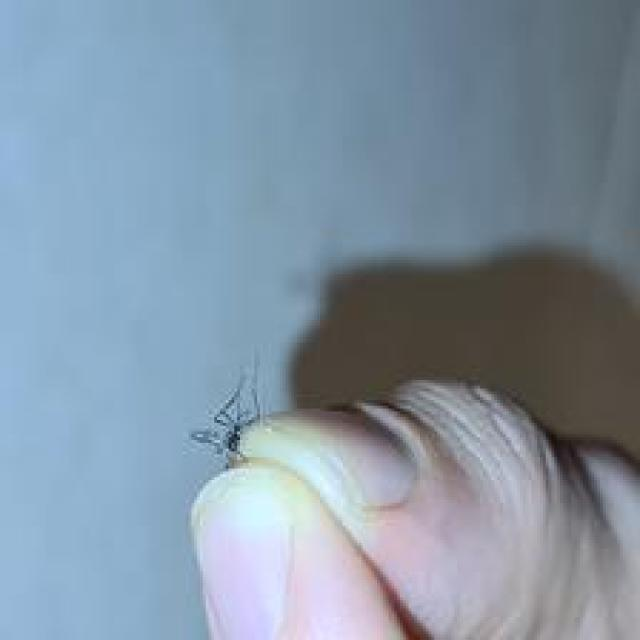Aedes albopictus: (188, 356, 266, 470)
